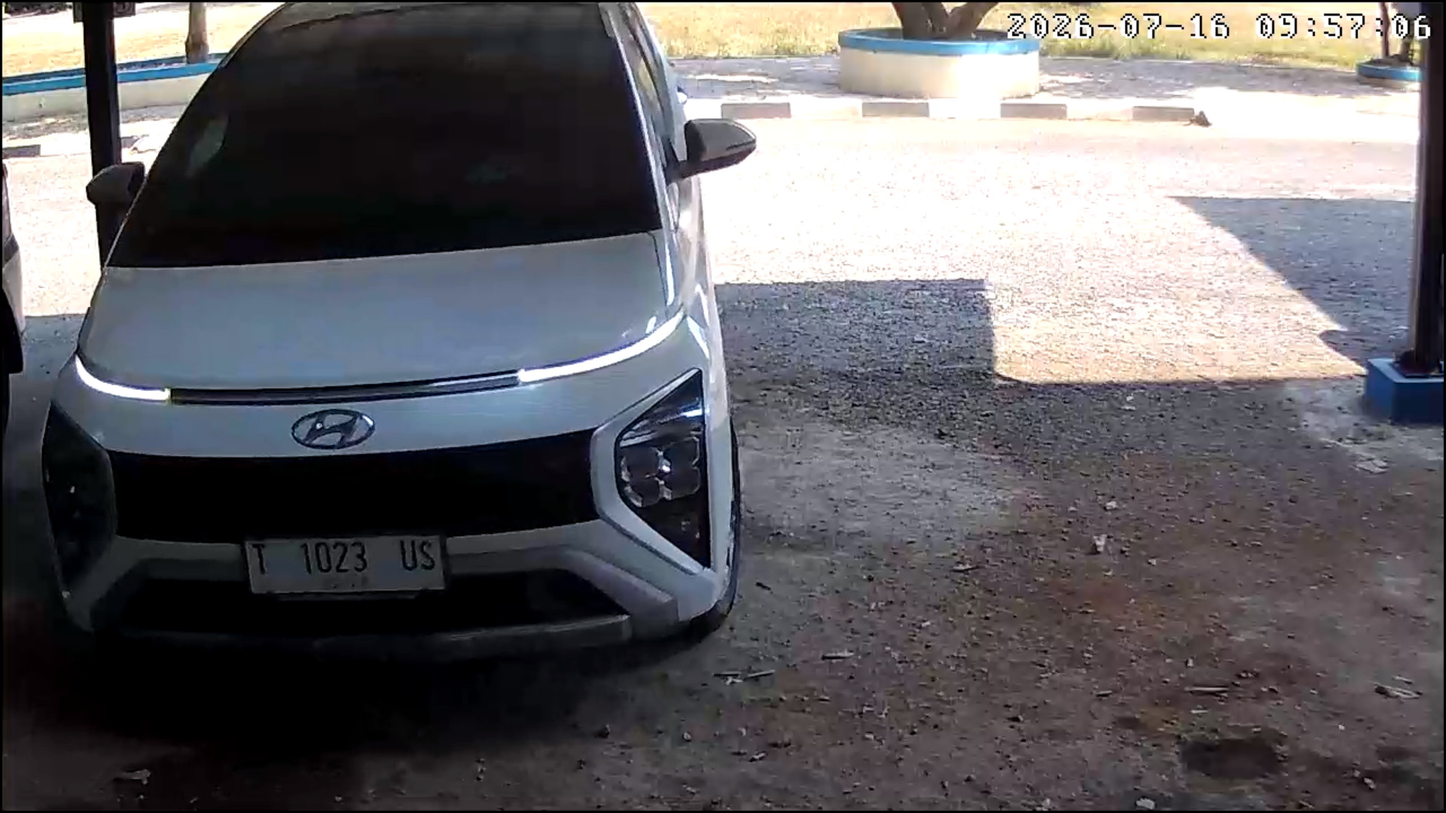plat nomor: (240, 531, 447, 600)
